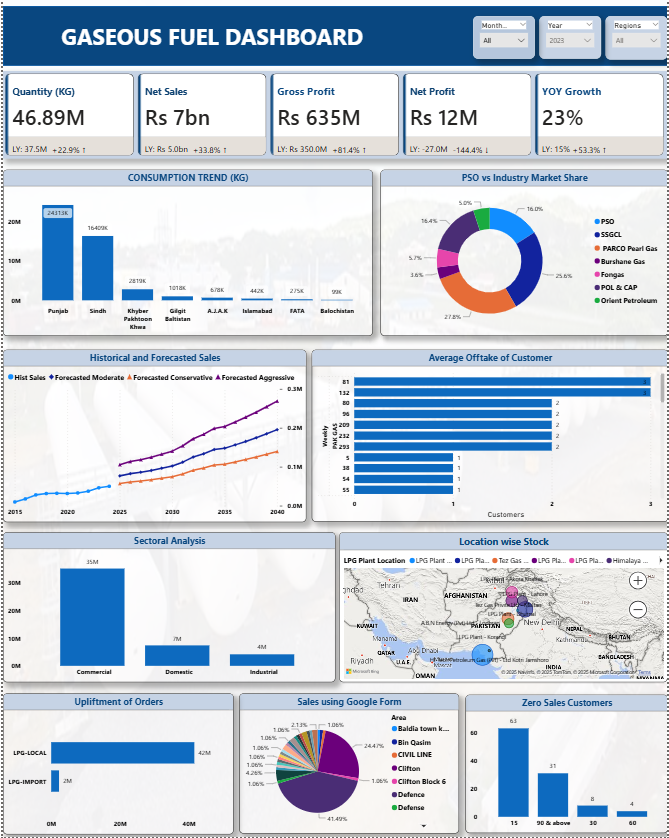

What the dashboard file says about the page in this screenshot:
{"tool":"powerbi","page":{"name":"LPG Dashboard","canvas":[1280,1600],"ordinal":1},"visuals":[{"type":"lineClusteredColumnComboChart","title":"CONSUMPTION TREND (KG)","fields":{"Category":["LPG data.Region (State, Province, County) Hierarchy.Region (State, Province, County)","LPG data.Region (State, Province, County) Hierarchy.Plant (Depots)","LPG data.Region (State, Province, County) Hierarchy.Customer group","LPG data.Region (State, Province, County) Hierarchy.Customers"],"Y":["Sum(Sheet1.ACTUAL QUANTITY )"]},"box":[0,315,712,320],"z":0},{"type":"donutChart","title":"PSO vs Industry Market Share","fields":{"Y":["Sum(Market share.PSO Pak Gas Share (%))","Sum(Market share.SSGC LPG Share (%))","Sum(Market share.PARCO Pearl Gas Share (%))","Sum(Market share.Burshane Gas Share (%))","Sum(Market share.Fongas Share (%))","Sum(Market share.POL & CAP Gas Share (%))","Sum(Market share.Orient Petroleum Share (%))"]},"box":[726.8,315.3,553.6,320.1],"z":1000},{"type":"lineChart","title":"Historical and Forecasted Sales","fields":{"Category":["Forecasted data.Year"],"Y2":["Sum(Forecasted data.PSO Hist Sales)","Sum(Forecasted data.Moderate)","Sum(Forecasted data.Conservative)","Sum(Forecasted data.Aggressive)"]},"box":[0,661.7,584.1,331.7],"z":2000},{"type":"columnChart","title":"Zero Sales Customers","fields":{"Y":["Count(Zero Customers.Payer)"],"Category":["Zero Customers.Slabs Hierarchy.Slabs","Zero Customers.Slabs Hierarchy.Days","Zero Customers.Slabs Hierarchy.Payer"]},"box":[890.1,1327.3,389.9,266.6],"z":3000},{"type":"pieChart","title":"Sales using Google Form","fields":{"Y":["CountNonNull(LPG sales using form.Customer group)"],"Category":["LPG sales using form.Payer Hierarchy.Area","LPG sales using form.Payer Hierarchy.ACTUAL QUANTITY","LPG sales using form.Payer Hierarchy.Customer Name"]},"box":[455.8,1324.4,422.8,269.5],"z":4000},{"type":"clusteredBarChart","title":"Average Offtake of Customer","fields":{"Y":["CountNonNull(Regular Customer.Payer)"],"Category":["Regular Customer.Slabs Hierarchy 2.Slabs","Regular Customer.Slabs Hierarchy 2.CG","Regular Customer.Slabs Hierarchy 2.Frequency of Orders","Regular Customer.Slabs Hierarchy 2.Payer","Regular Customer.Slabs Hierarchy 2.Average Days   "]},"box":[593.4,662.2,686.6,331.1],"z":5000},{"type":"clusteredColumnChart","title":"Sectoral Analysis","fields":{"Y":["Sum(volume.ACTUAL QUANTITY L15)"],"Category":["volume.Volume Hierarchy.Channel","volume.Volume Hierarchy.Sales office","volume.Volume Hierarchy.Customer group","volume.Volume Hierarchy.Customer","volume.Volume Hierarchy.Month","volume.Volume Hierarchy.Days"]},"box":[0,1013.2,640.2,288.8],"z":6000},{"type":"shape","box":[0,0,1280,115.6],"z":7000},{"type":"textbox","box":[55.6,24.4,1028.9,91.1],"z":8000},{"type":"map","title":"Location wise Stock","fields":{"Category":["Stock.LPG Plant Location"],"Series":["Stock.LPG Plant Location"],"Size":["Sum(Stock.Closing Stock)"]},"box":[648,1013,632,289],"z":10000},{"type":"cardVisual","fields":{"Data":["Sum(YOY Volume.Quantity)","Sum(YOY Volume.Net Sales)","Sum(YOY Volume.Gross Profit)","Sum(YOY Volume.Net Profit)","Sum(YOY Volume.YOY Growth)"]},"box":[0,125.9,1280.4,168.8],"z":11000},{"type":"slicer","fields":{"Values":["Region.Regions"]},"box":[1161.1,18.2,119.1,83.9],"z":12000},{"type":"slicer","fields":{"Values":["DateTable.Year"]},"box":[1033.4,19.5,119.1,82.7],"z":13000},{"type":"slicer","fields":{"Values":["DateTable.MonthName"]},"box":[904.6,19.5,119.1,82.7],"z":14000},{"type":"barChart","title":"Upliftment of Orders","fields":{"Category":["Upliftment data.Val. type Hierarchy.Val. type","Upliftment data.Val. type Hierarchy.Shipping point/receiving point","Upliftment data.Val. type Hierarchy.Ship-to party","Upliftment data.Val. type Hierarchy.Del.start"],"Y":["Sum(Upliftment data.Delivery quantity)"]},"box":[0,1323,444.3,270.9],"z":15000}]}

Visuals, with their boxes in screenshot pixels (x1, y1, x2, y2), scaled from the page's 1280x1600 canvas onto the 669x838 screenshot:
"CONSUMPTION TREND (KG)" lineClusteredColumnComboChart: {"x1": 0, "y1": 165, "x2": 372, "y2": 333}
"PSO vs Industry Market Share" donutChart: {"x1": 380, "y1": 165, "x2": 668, "y2": 333}
"Historical and Forecasted Sales" lineChart: {"x1": 0, "y1": 347, "x2": 305, "y2": 520}
"Zero Sales Customers" columnChart: {"x1": 465, "y1": 695, "x2": 668, "y2": 835}
"Sales using Google Form" pieChart: {"x1": 238, "y1": 694, "x2": 459, "y2": 835}
"Average Offtake of Customer" clusteredBarChart: {"x1": 310, "y1": 347, "x2": 668, "y2": 520}
"Sectoral Analysis" clusteredColumnChart: {"x1": 0, "y1": 531, "x2": 335, "y2": 682}
shape: {"x1": 0, "y1": 0, "x2": 668, "y2": 61}
textbox: {"x1": 29, "y1": 13, "x2": 567, "y2": 60}
"Location wise Stock" map: {"x1": 339, "y1": 531, "x2": 668, "y2": 682}
cardVisual - Sum(YOY Volume.Quantity) x Sum(YOY Volume.Net Sales): {"x1": 0, "y1": 66, "x2": 668, "y2": 154}
slicer - Region.Regions: {"x1": 607, "y1": 10, "x2": 668, "y2": 53}
slicer - DateTable.Year: {"x1": 540, "y1": 10, "x2": 602, "y2": 54}
slicer - DateTable.MonthName: {"x1": 473, "y1": 10, "x2": 535, "y2": 54}
"Upliftment of Orders" barChart: {"x1": 0, "y1": 693, "x2": 232, "y2": 835}
